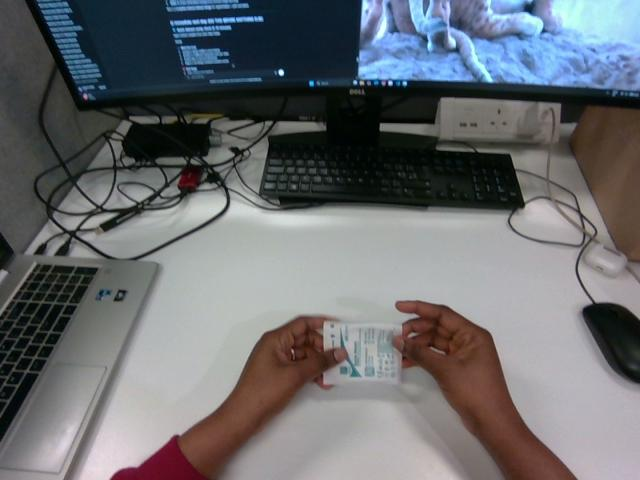gauze: (323, 322, 401, 384)
